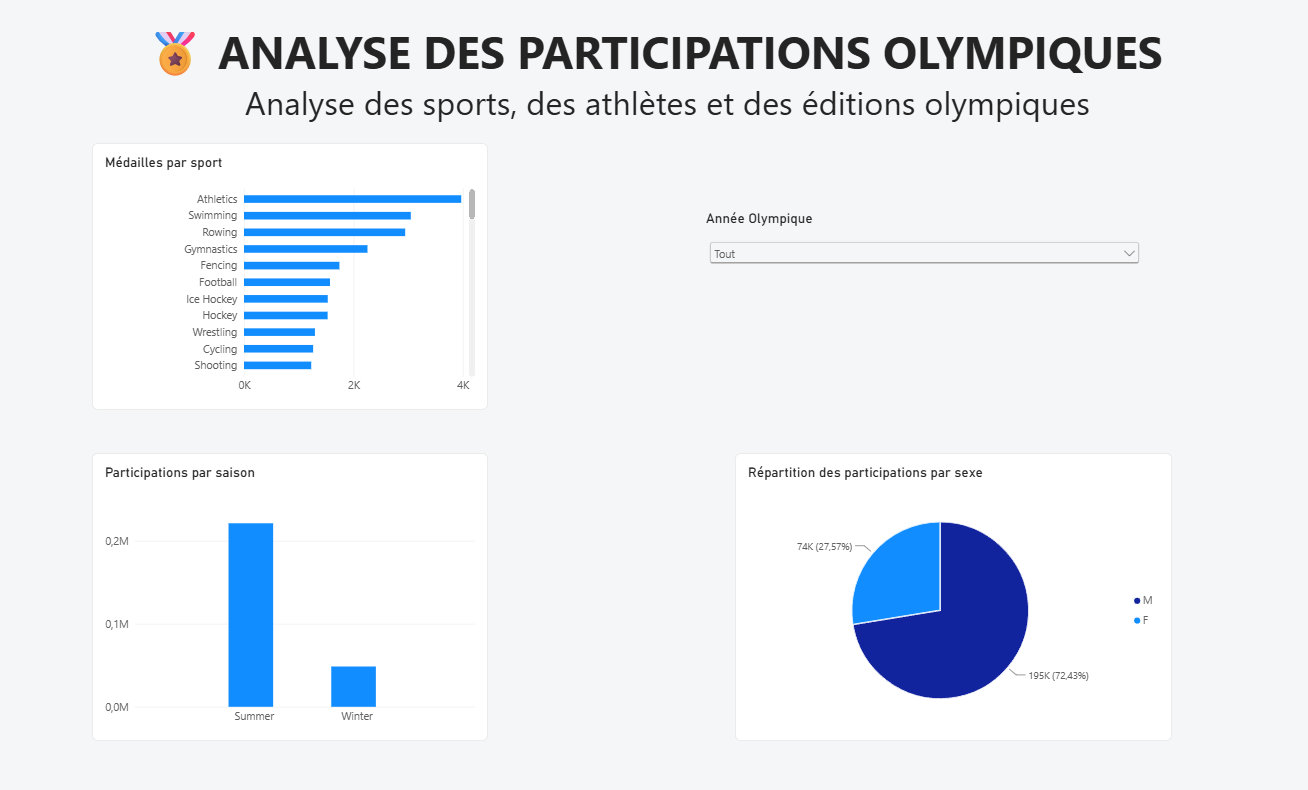

What the dashboard file says about the page in this screenshot:
{"tool":"powerbi","page":{"name":"Page 2","canvas":[1920,1080],"ordinal":1},"visuals":[{"type":"clusteredBarChart","title":"Médailles par sport","fields":{"Category":["DimSport.Sport"],"Y":["FactParticipation.Total Medals"]},"box":[123.7,188.2,521.1,351.3],"z":0},{"type":"pieChart","title":"Répartition des participations par sexe","fields":{"Category":["DimAthlete.Sex"],"Y":["FactParticipation.Total Participations"]},"box":[969.7,596.1,575,378.9],"z":1000},{"type":"clusteredColumnChart","title":"Participations par saison","fields":{"Category":["DimOlympics.Season"],"Y":["FactParticipation.Total Participations"]},"box":[123.7,596.1,521.1,378.9],"z":2000},{"type":"slicer","title":"Année Olympique","fields":{"Values":["DimOlympics.Year"]},"box":[931.6,276.3,575,175],"z":3000},{"type":"textbox","box":[63.2,27.6,1635.5,225],"z":4000}]}

Visuals, with their boxes on the page's 1920x1080 design canvas (x1, y1, x2, y2). These are canvas units, not pixel positions in the 1308x790 screenshot, which may show the page scaled, cropped or inside an application window:
"Médailles par sport" clusteredBarChart: <box>124,188,645,540</box>
"Répartition des participations par sexe" pieChart: <box>970,596,1545,975</box>
"Participations par saison" clusteredColumnChart: <box>124,596,645,975</box>
"Année Olympique" slicer: <box>932,276,1507,451</box>
textbox: <box>63,28,1699,253</box>
